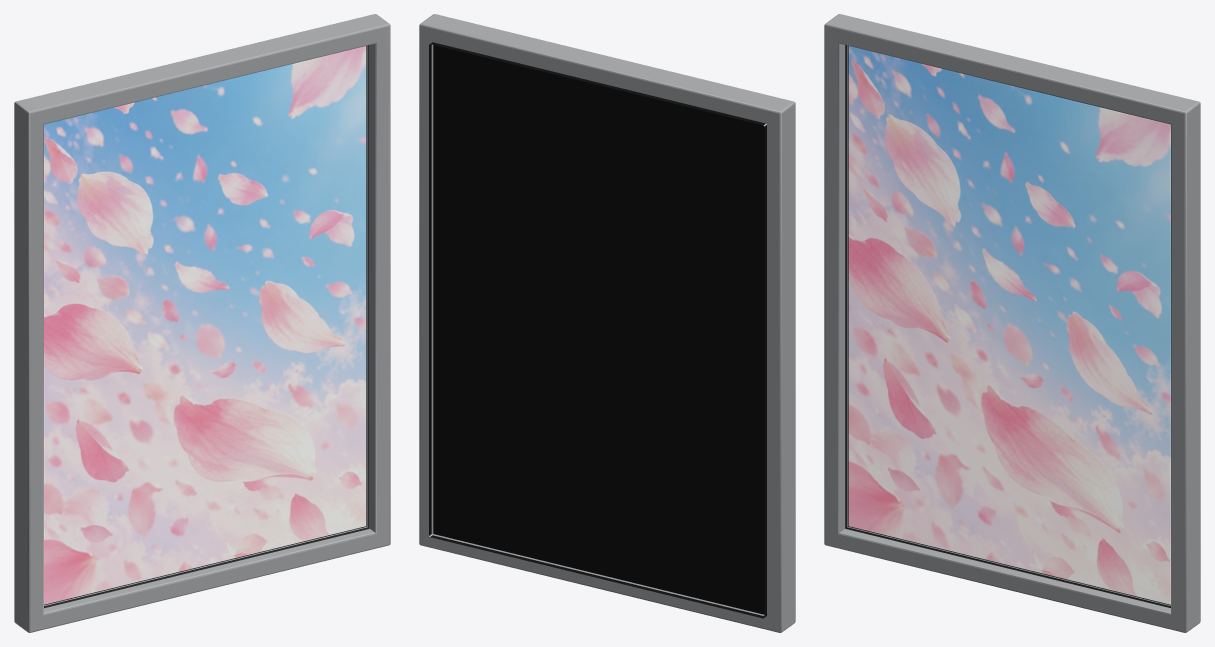
File: gteki_poster_lightbox_04.glb
3 views of the same model, side by side, from view 1: azimuth 30°, elevation 25°; view 2: azimuth 150°, elevation 25°; view 3: azimuth 330°, elevation 25° (orthographic).
Visible parts, largest first — view 1: VIS_glass, VIS_faces, VIS_frame; view 2: VIS_frame; view 3: VIS_glass, VIS_faces, VIS_frame.
Boxes of the visible parts, bbox=[...] form: VIS_glass: bbox=[45, 46, 369, 606]; VIS_faces: bbox=[44, 46, 366, 604]; VIS_frame: bbox=[14, 14, 390, 632]; VIS_frame: bbox=[419, 14, 795, 632]; VIS_glass: bbox=[845, 46, 1169, 606]; VIS_faces: bbox=[848, 46, 1170, 604]; VIS_frame: bbox=[824, 14, 1200, 632].
Size of what is drawn, in the model's own units: 0.8 by 1.1 by 0.07.
Materials: 4 (1 with a texture image).
